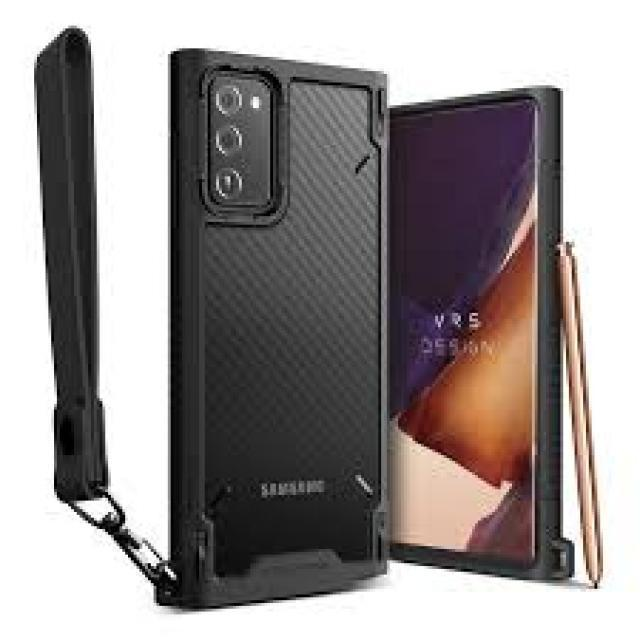lens: (205, 70, 260, 208)
phone: (162, 46, 394, 614), (384, 81, 568, 584)
